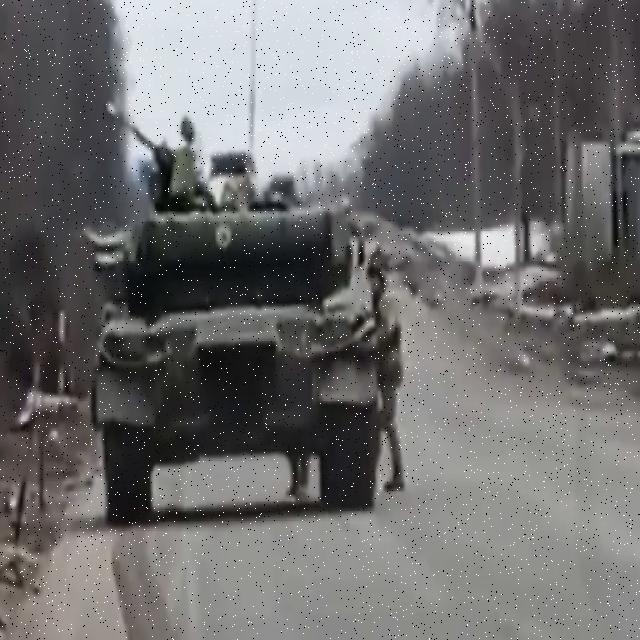TANK: (98, 127, 386, 533)
